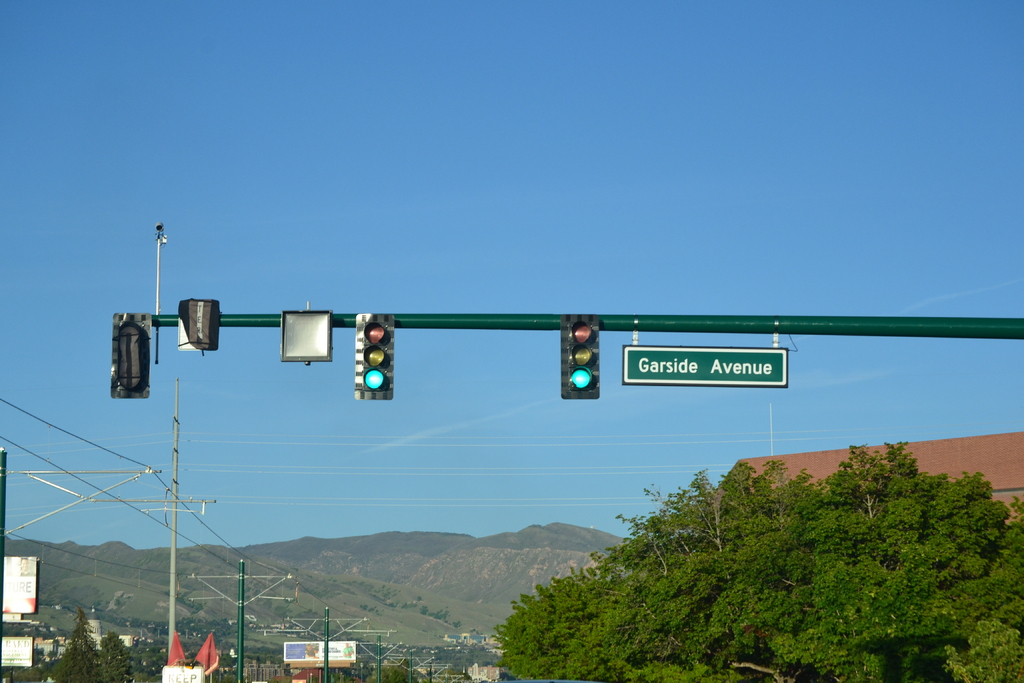green_light: (561, 319, 600, 399), (357, 313, 392, 401)
